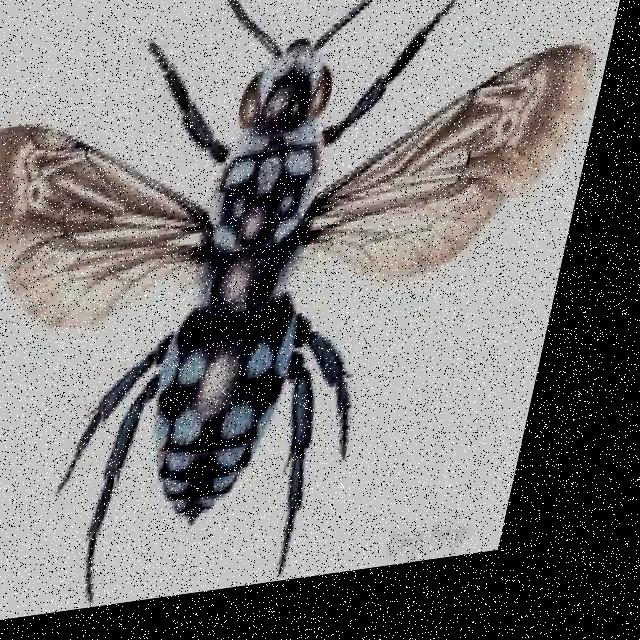Thyreus: (0, 0, 623, 638)
